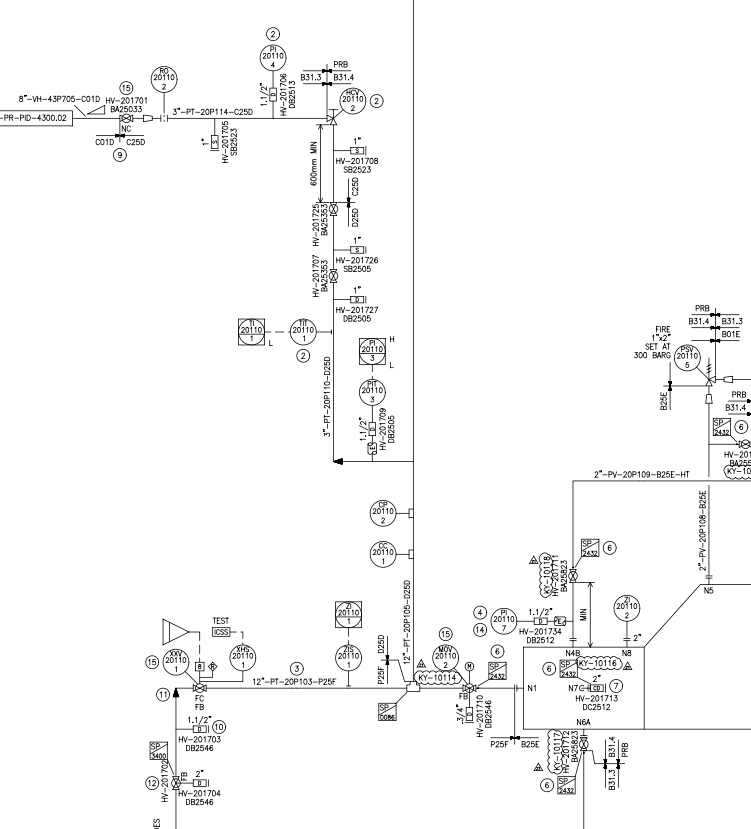Instrument: (367, 538, 403, 570), (609, 591, 645, 623), (488, 601, 520, 636), (357, 374, 389, 409), (149, 62, 181, 97), (288, 314, 321, 346), (226, 641, 260, 672), (429, 641, 462, 672), (367, 497, 399, 528), (332, 641, 365, 671), (672, 341, 703, 372), (160, 646, 190, 677), (339, 85, 368, 116), (259, 43, 288, 71)
Instrument-square: (233, 313, 270, 351), (355, 333, 389, 369), (332, 597, 365, 631)
